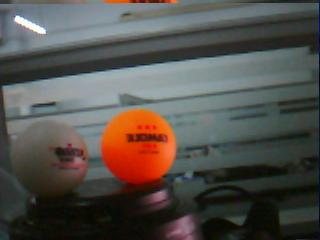oball: (100, 108, 175, 187)
